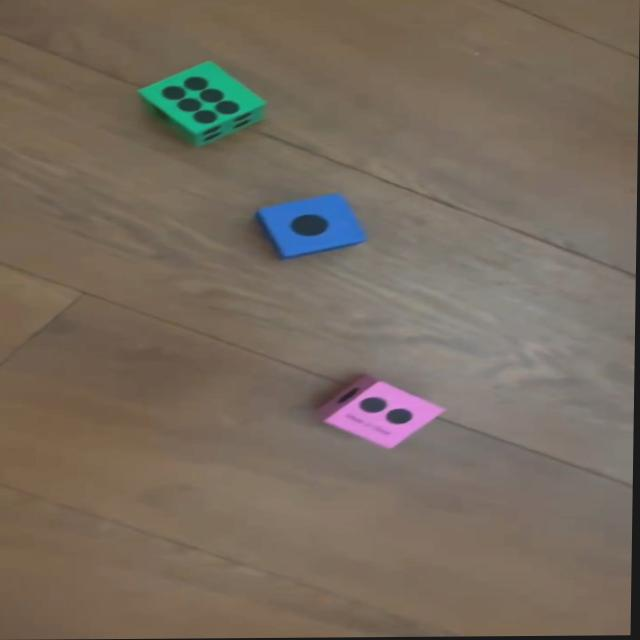cube: (141, 60, 268, 145), (254, 194, 369, 259)
